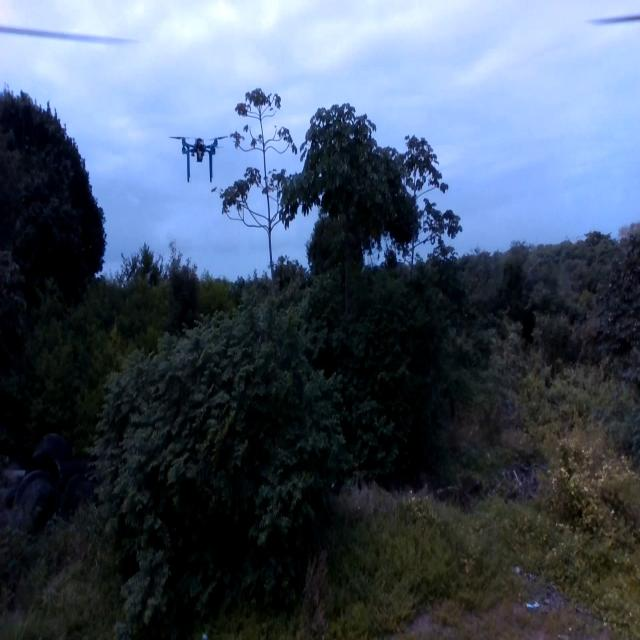-uav-: (168, 120, 231, 188)
